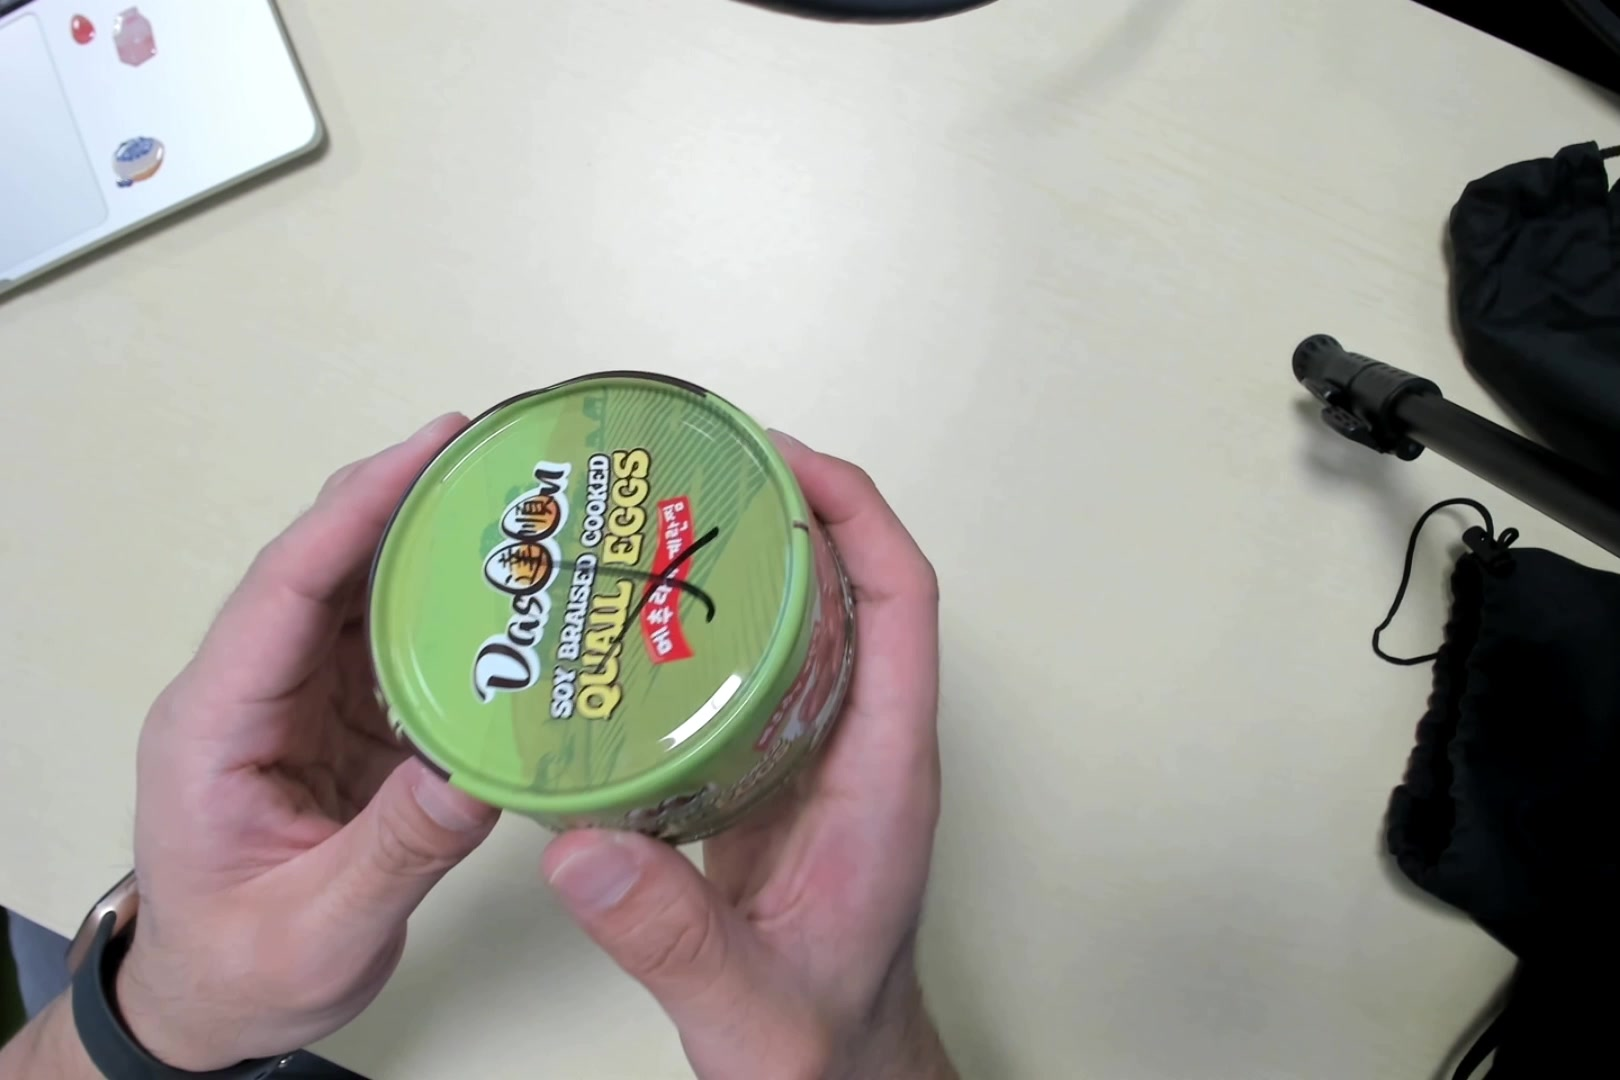CannedPorkLunchronMeat_100-199g_NonHalal_NonHealthy: (377, 372, 862, 859)
